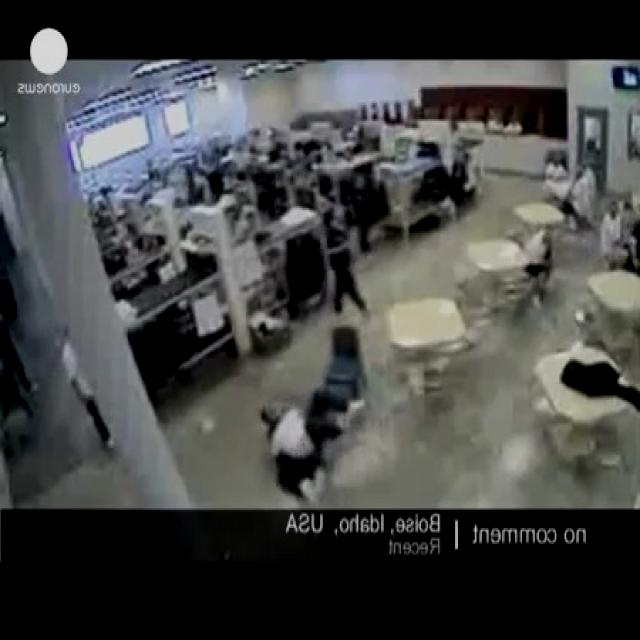fight: (202, 334, 380, 512)
